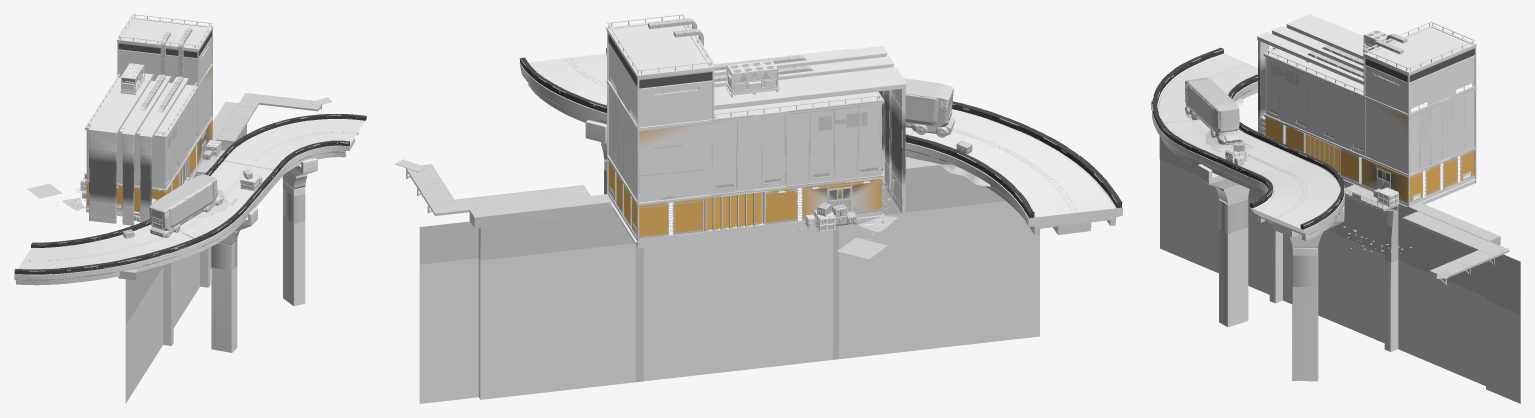
File: cell_170_110.fbx
3 views of the same model, side by side, from view 1: azimuth 30°, elevation 25°; view 2: azimuth 150°, elevation 25°; view 3: azimuth 270°, elevation 25° (orthographic). The views are drawn at different scales.
Parts seen in each view (by area): view 1: SM_I_RoadFacility_Ground_L_06A.mo, SM_H_Building_FutureTech_Aerospace_01.mo, SM_I_RoadFacility_Ground_R_02Cb.mo, SM_I_RoadFacility_Ground_L_06A_Decal.mo, SM_H_FutureTech_Vehicle_DriverlessVans_01.mo.018, SM_I_RoadFacility_Ground_T_01C.mo, SM_I_RoadFacility_Ground_R_02Cb_Decal.mo, SM_H_Building_FutureTech_Aerospace_01_Decal.mo, SM_H_FutureTech_Electrical_BigConditioners_01.mo.032, SM_I_RoadFacility_Ground_L_06B.mo, SM_DECOR_GrassDebris_Less_01_HD.mo.1318; view 2: SM_I_RoadFacility_Ground_R_02Cb.mo, SM_H_Building_FutureTech_Aerospace_01.mo, SM_I_RoadFacility_Ground_L_06A.mo, SM_H_Building_FutureTech_Aerospace_01_Decal.mo, SM_I_RoadFacility_Ground_T_01C.mo, SM_H_FutureTech_Vehicle_DriverlessVans_01.mo.018, SM_H_FutureTech_Electrical_BigConditioners_01.mo.032, SM_I_RoadFacility_Ground_L_06A_Decal.mo, SM_DECOR_GrassDebris_Less_01_HD.mo.1318; view 3: SM_H_Building_FutureTech_Aerospace_01.mo, SM_I_RoadFacility_Ground_R_02Cb.mo, SM_I_RoadFacility_Ground_L_06A.mo, SM_I_RoadFacility_Ground_R_02Cb_Decal.mo, SM_I_RoadFacility_Ground_T_01C.mo, SM_I_RoadFacility_Ground_L_06A_Decal.mo, SM_H_Building_FutureTech_Aerospace_01_Decal.mo, SM_H_FutureTech_Vehicle_DriverlessVans_01.mo.018, SM_H_FutureTech_Vehicle_DriverlessVans_02.mo.026, SM_H_Industrial_Container_SupplyBox_01.mo.365.
Boxes of the visible parts, box(x1,y1,x2,y2) form: SM_I_RoadFacility_Ground_L_06A.mo: box(14, 114, 366, 352); SM_H_Building_FutureTech_Aerospace_01.mo: box(84, 14, 213, 225); SM_I_RoadFacility_Ground_R_02Cb.mo: box(118, 101, 238, 403); SM_I_RoadFacility_Ground_L_06A_Decal.mo: box(22, 114, 365, 280); SM_H_FutureTech_Vehicle_DriverlessVans_01.mo.018: box(149, 174, 217, 230); SM_I_RoadFacility_Ground_T_01C.mo: box(196, 93, 332, 176); SM_I_RoadFacility_Ground_R_02Cb_Decal.mo: box(125, 124, 246, 325); SM_H_Building_FutureTech_Aerospace_01_Decal.mo: box(85, 73, 211, 225); SM_H_FutureTech_Electrical_BigConditioners_01.mo.032: box(120, 63, 144, 94); SM_I_RoadFacility_Ground_L_06B.mo: box(23, 131, 357, 261); SM_DECOR_GrassDebris_Less_01_HD.mo.1318: box(27, 183, 62, 198); SM_I_RoadFacility_Ground_R_02Cb.mo: box(419, 159, 1039, 403); SM_H_Building_FutureTech_Aerospace_01.mo: box(606, 14, 906, 248); SM_I_RoadFacility_Ground_L_06A.mo: box(519, 48, 1122, 234); SM_H_Building_FutureTech_Aerospace_01_Decal.mo: box(607, 84, 905, 247); SM_I_RoadFacility_Ground_T_01C.mo: box(395, 157, 914, 215); SM_H_FutureTech_Vehicle_DriverlessVans_01.mo.018: box(903, 78, 953, 127); SM_H_FutureTech_Electrical_BigConditioners_01.mo.032: box(725, 60, 779, 97); SM_I_RoadFacility_Ground_L_06A_Decal.mo: box(520, 58, 1116, 213); SM_DECOR_GrassDebris_Less_01_HD.mo.1318: box(837, 237, 887, 259); SM_H_Building_FutureTech_Aerospace_01.mo: box(1257, 14, 1476, 206); SM_I_RoadFacility_Ground_R_02Cb.mo: box(1151, 101, 1520, 403); SM_I_RoadFacility_Ground_L_06A.mo: box(1152, 47, 1344, 381); SM_I_RoadFacility_Ground_R_02Cb_Decal.mo: box(1159, 136, 1520, 314); SM_I_RoadFacility_Ground_T_01C.mo: box(1345, 184, 1509, 284); SM_I_RoadFacility_Ground_L_06A_Decal.mo: box(1152, 49, 1344, 287); SM_H_Building_FutureTech_Aerospace_01_Decal.mo: box(1258, 40, 1476, 206); SM_H_FutureTech_Vehicle_DriverlessVans_01.mo.018: box(1185, 77, 1239, 132); SM_H_FutureTech_Vehicle_DriverlessVans_02.mo.026: box(1210, 130, 1242, 144); SM_H_Industrial_Container_SupplyBox_01.mo.365: box(1376, 187, 1399, 207).
Bounding box in the file's own units: 88.09 × 52.22 × 59.76.
